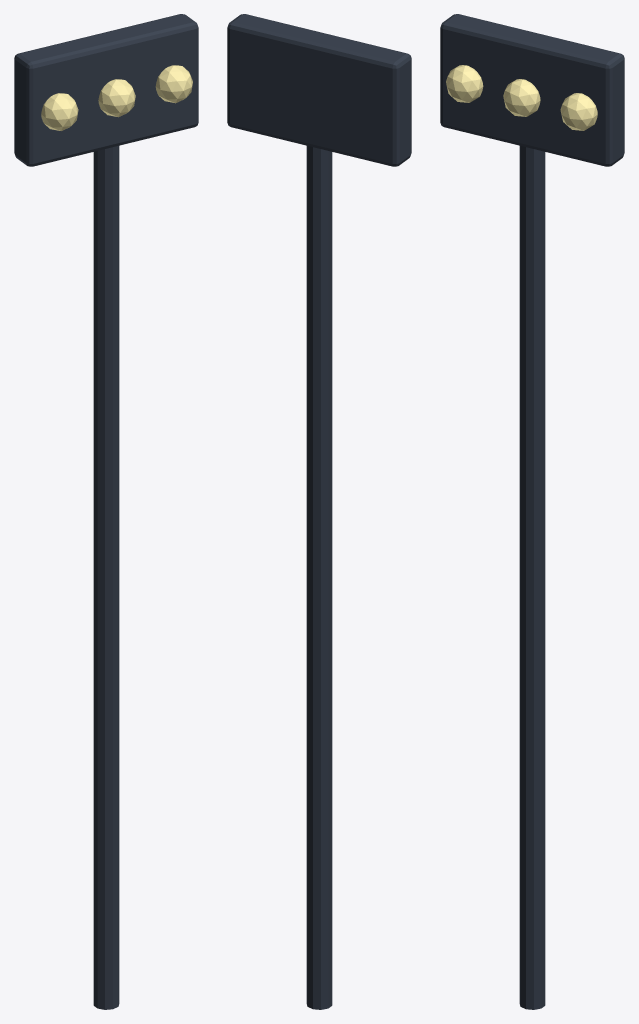
Rendered from BikePolo_Floodlight.fbx.
The picture shows the model from 3 angles, left to right: view 1: azimuth 30°, elevation 25°; view 2: azimuth 150°, elevation 25°; view 3: azimuth 330°, elevation 25°; orthographic projection.
Parts seen in each view (by area): view 1: Floodlight; view 2: Floodlight; view 3: Floodlight.
Part boxes in pixels (x1=…): Floodlight: x1=14, y1=14, x2=198, y2=1009; Floodlight: x1=227, y1=14, x2=411, y2=1009; Floodlight: x1=440, y1=14, x2=624, y2=1009.
Bounding box in the file's own units: 1.2 × 6.45 × 0.34.
